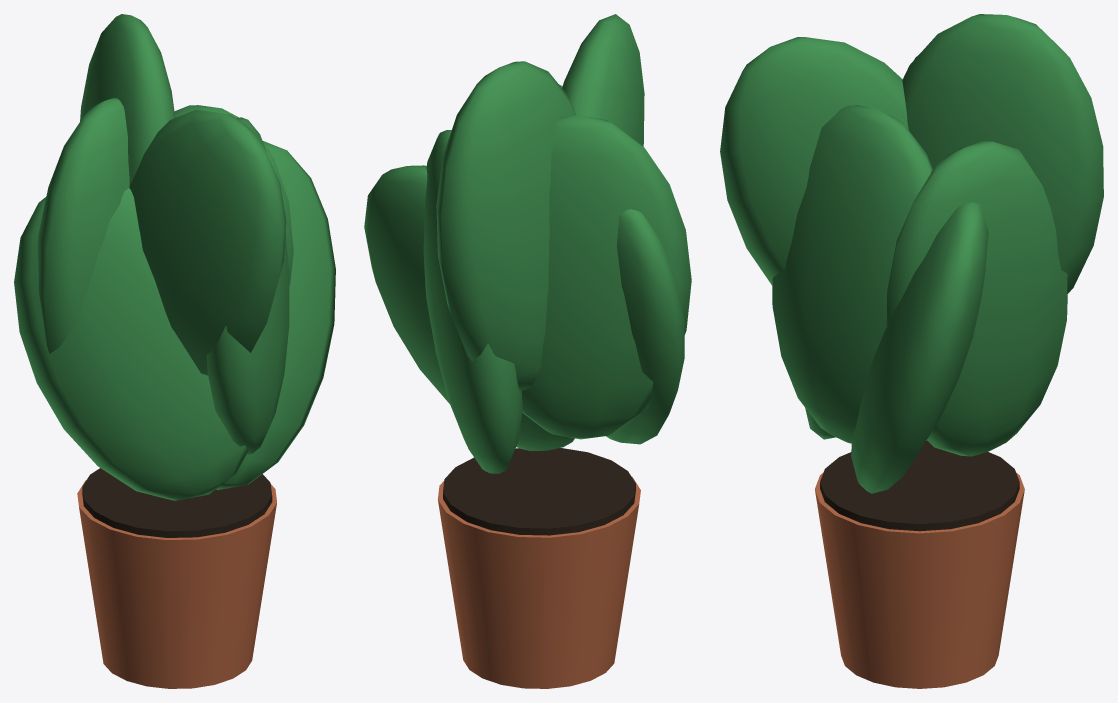
File: plant.glb
3 renders of one model, left to right at view 1: azimuth 30°, elevation 25°; view 2: azimuth 150°, elevation 25°; view 3: azimuth 270°, elevation 25°, orthographic. The views are drawn at different scales.
Bounding box in the file's own units: 0.7072 × 1.34 × 0.7308.
